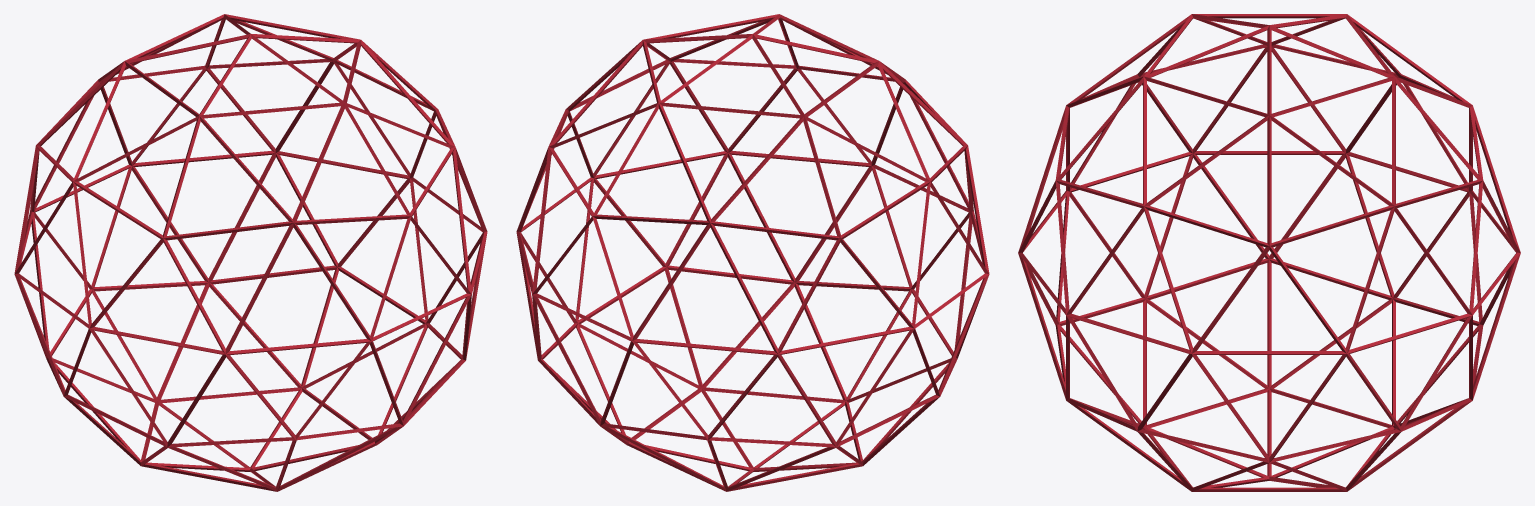
File: shere_ico_arra,ado+red.fbx
3 renders of one model, left to right at view 1: azimuth 30°, elevation 25°; view 2: azimuth 150°, elevation 25°; view 3: azimuth 270°, elevation 25°, orthographic. The views are drawn at different scales.
Visible parts, largest first — view 1: Icosphere; view 2: Icosphere; view 3: Icosphere.
Part boxes in pixels (x1=…): Icosphere: x1=14, y1=14, x2=487, y2=491; Icosphere: x1=516, y1=14, x2=989, y2=491; Icosphere: x1=1018, y1=14, x2=1520, y2=491.
Bounding box in the file's own units: 236 × 248 × 248.
